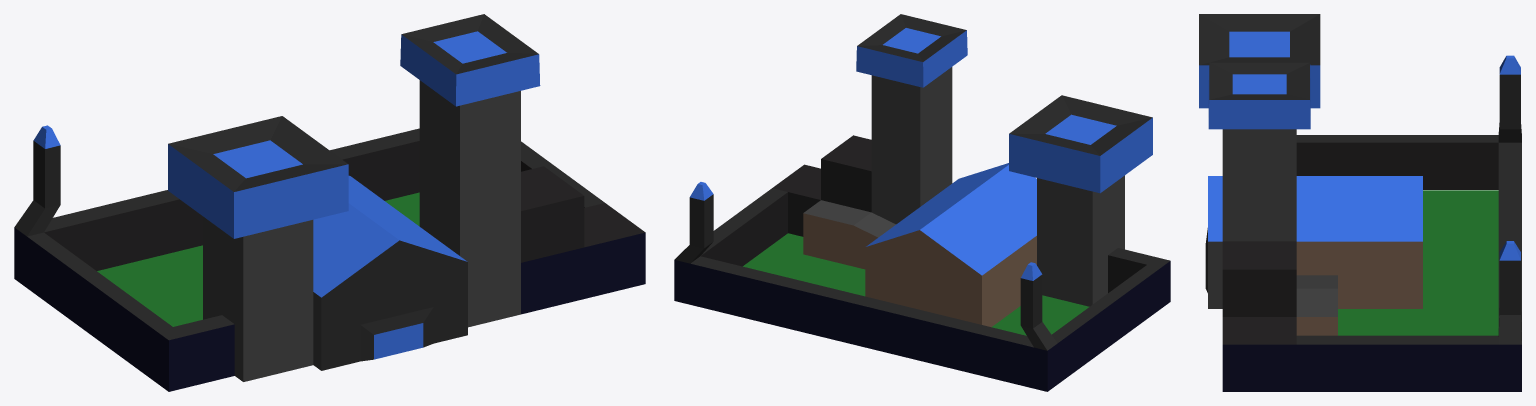
Rendered from Mini_Castle__BLUE_Model_01.fbx.
3 renders of one model, left to right at view 1: azimuth 30°, elevation 25°; view 2: azimuth 150°, elevation 25°; view 3: azimuth 270°, elevation 25°, orthographic. The views are drawn at different scales.
Parts seen in each view (by area): view 1: Cube.001; view 2: Cube.001; view 3: Cube.001.
Part boxes in pixels (x1=…): Cube.001: x1=14, y1=14, x2=645, y2=391; Cube.001: x1=674, y1=14, x2=1170, y2=391; Cube.001: x1=1199, y1=14, x2=1521, y2=391.
Size of the model in its own units: 1337 by 718 by 871.
